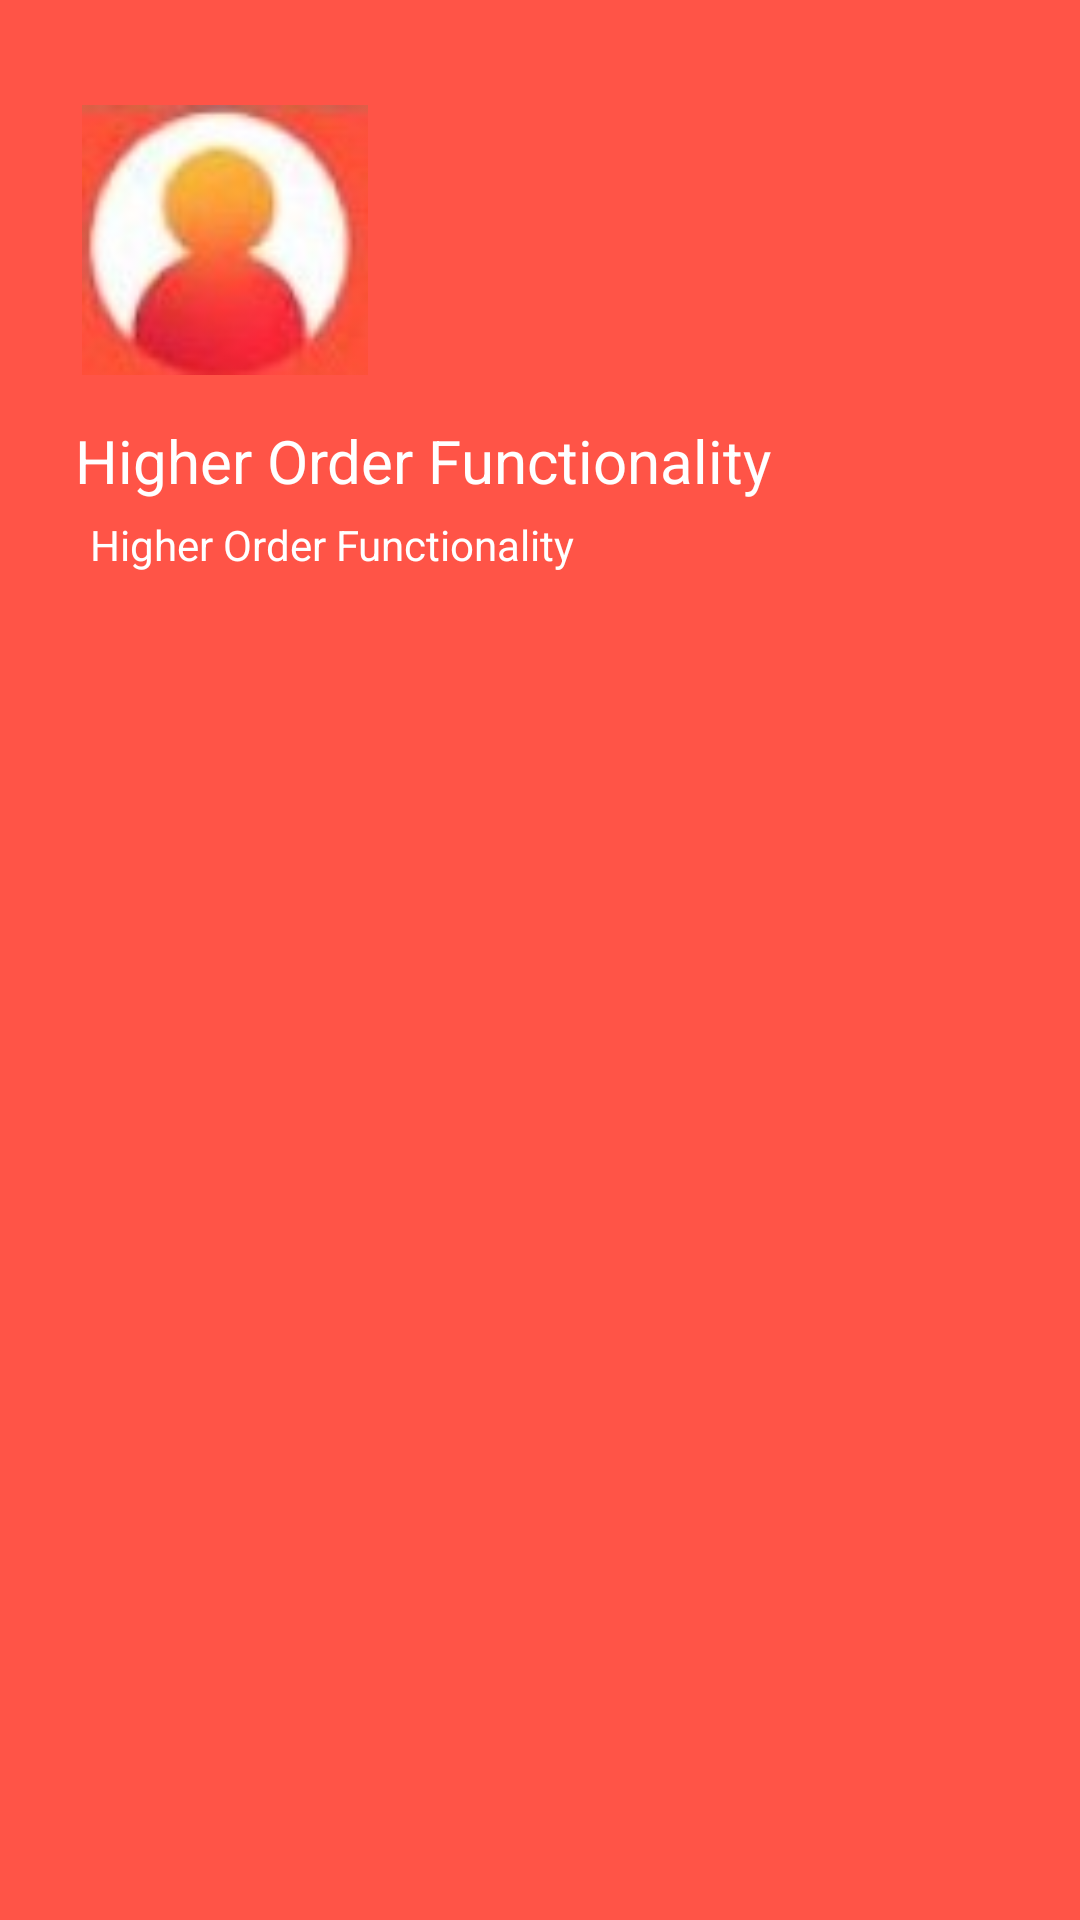

Point at icon controls on the screen. Image size 1080px×1920px, points as [x,y].
heador: [225,240]
